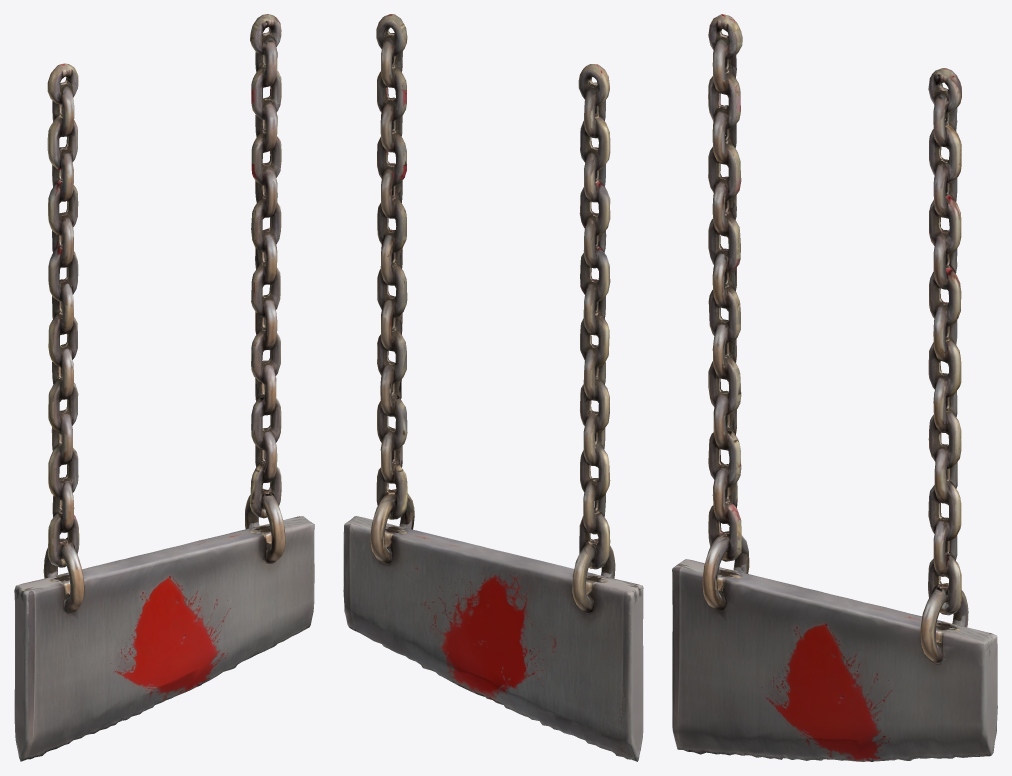
The model's file is obj_guillotine.glb.
The picture shows the model from 3 angles, left to right: view 1: azimuth 30°, elevation 25°; view 2: azimuth 150°, elevation 25°; view 3: azimuth 330°, elevation 25°; orthographic projection. The views are drawn at different scales.
Visible parts, largest first — view 1: Guillotine trap; view 2: Guillotine trap; view 3: Guillotine trap.
Boxes of the visible parts, x1=… form: Guillotine trap: x1=14, y1=14, x2=314, y2=761; Guillotine trap: x1=343, y1=14, x2=643, y2=761; Guillotine trap: x1=672, y1=14, x2=997, y2=761.
Size of the model in its own units: 0.8467 by 1.91 by 0.1798.
1 material, 1 textured.
